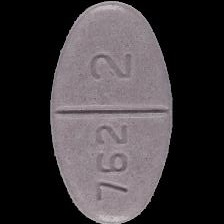65162-762: (0, 0, 224, 224)
